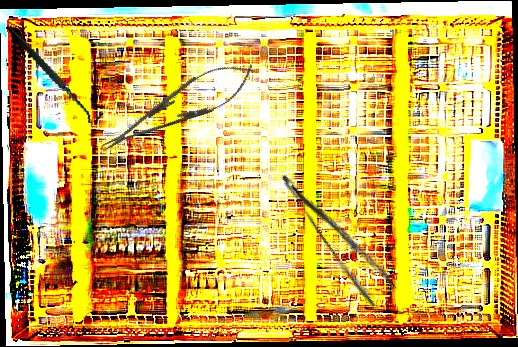Dressing Forceps: (277, 157, 401, 310)
Hook Surgical: (5, 8, 106, 138)
Needle Holder: (93, 49, 263, 166)
